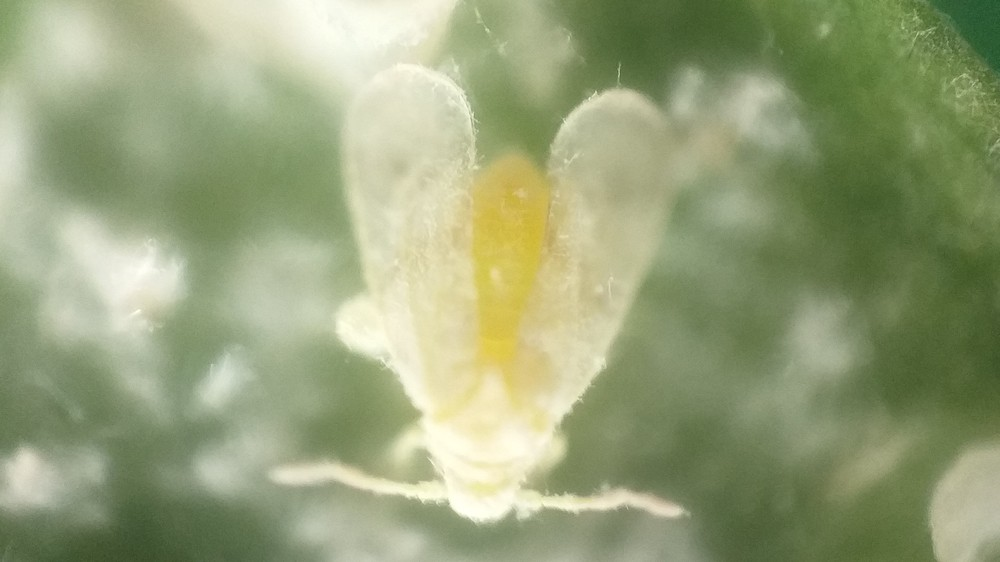Mosca Blanca: (281, 56, 729, 546)
